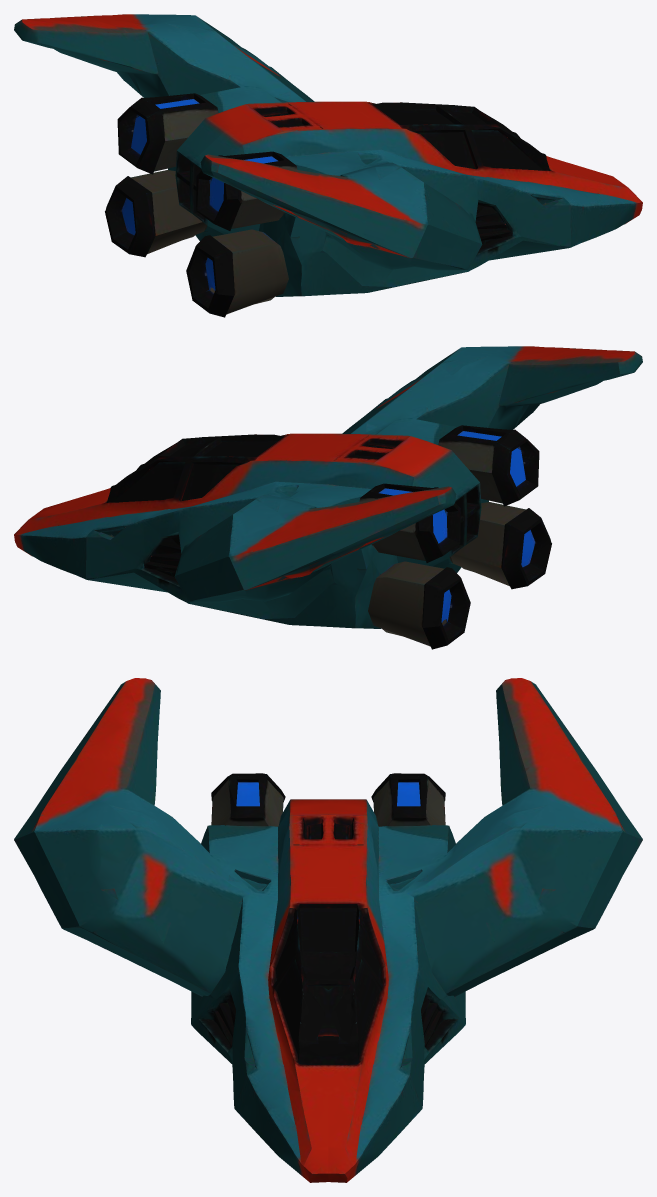
File: nave_28.obj
3 views of the same model, one above another, from view 1: azimuth 30°, elevation 25°; view 2: azimuth 150°, elevation 25°; view 3: azimuth 270°, elevation 25° (orthographic). The views are drawn at different scales.
Parts seen in each view (by area): view 1: geometry_0; view 2: geometry_0; view 3: geometry_0.
Part boxes in pixels (bbox=[...]): geometry_0: bbox=[14, 14, 642, 317]; geometry_0: bbox=[14, 346, 642, 649]; geometry_0: bbox=[14, 678, 642, 1182].
Bounding box in the file's own units: 6.87 × 3.12 × 7.
Materials: 1 (1 with a texture image).
